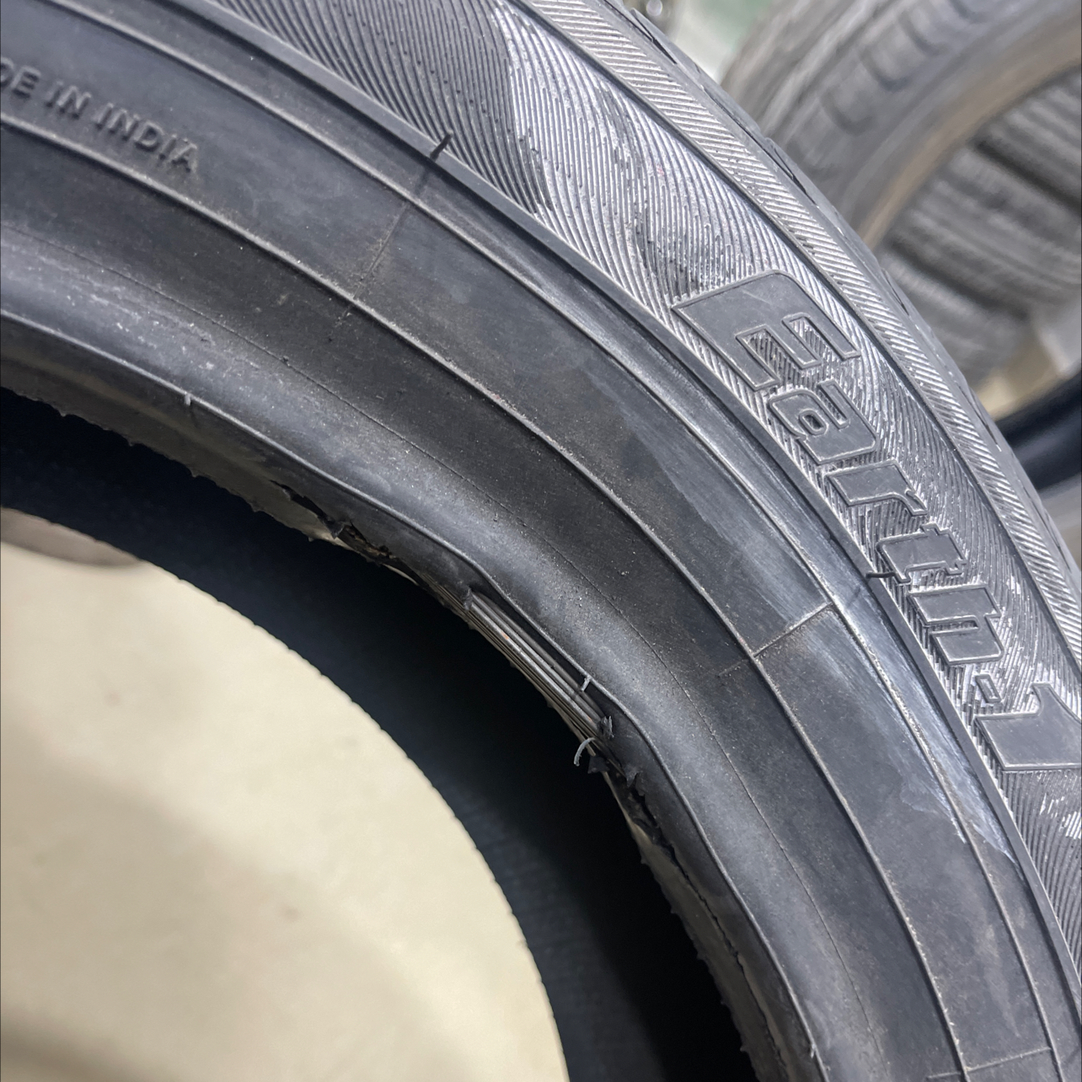bead_damage: (252, 437, 721, 893)
